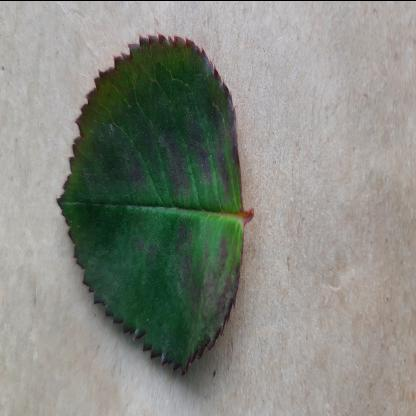downy-mildew: (55, 22, 248, 380)
